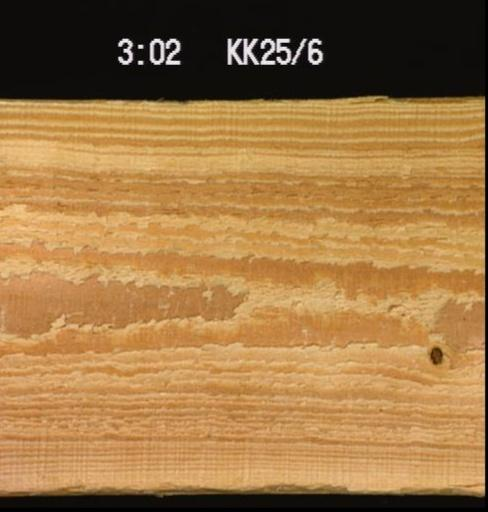dry_knot: (425, 341, 443, 367)
wave: (57, 468, 484, 498)
